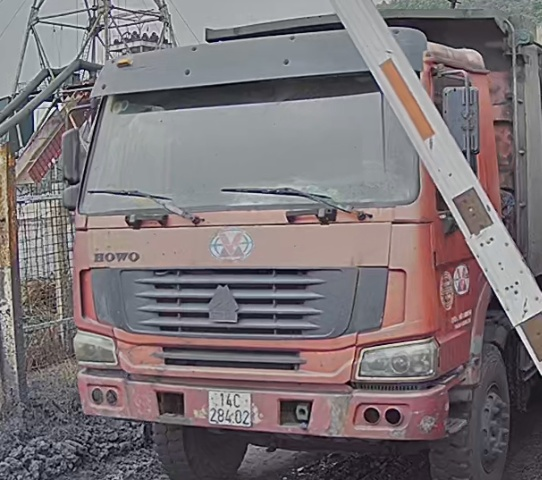vehicle plate: (205, 388, 251, 429)
